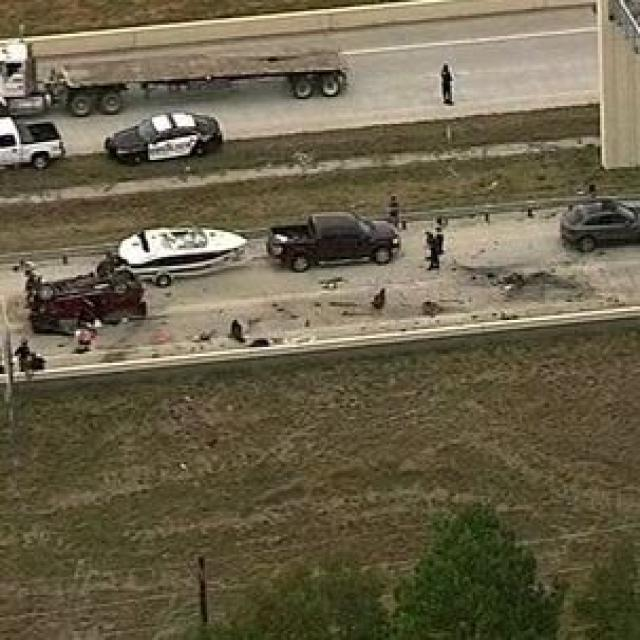traffic_incident: (17, 252, 144, 340)
